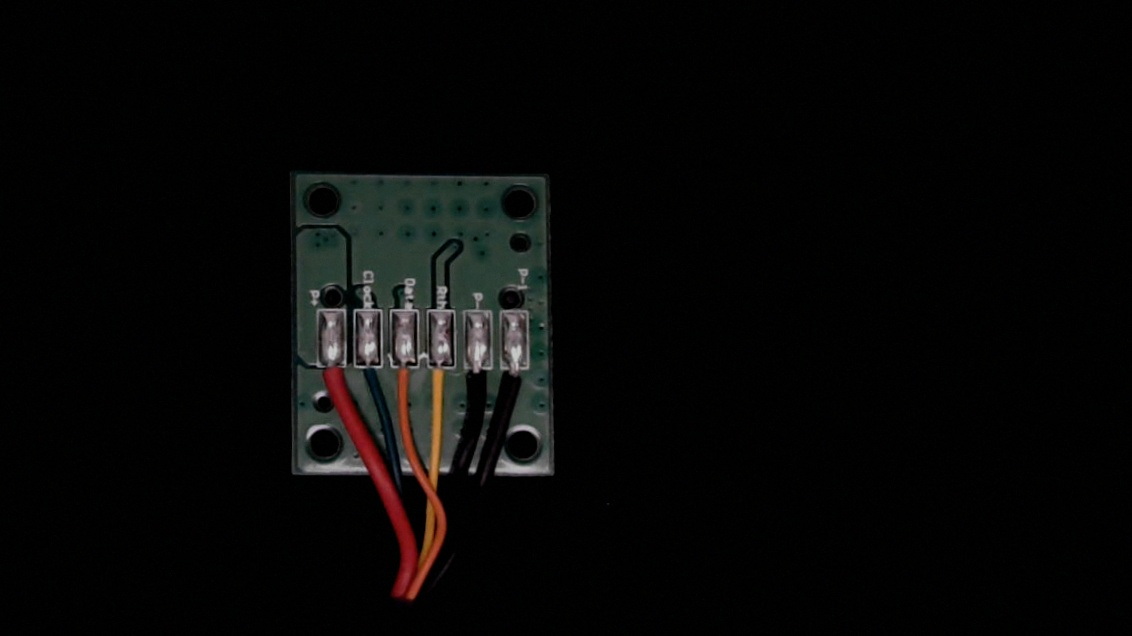Black: (463, 352, 495, 406)
Black1: (501, 352, 531, 407)
Green: (352, 351, 385, 403)
Orange: (389, 351, 420, 413)
Red: (318, 348, 349, 410)
Yellow: (427, 353, 458, 410)
